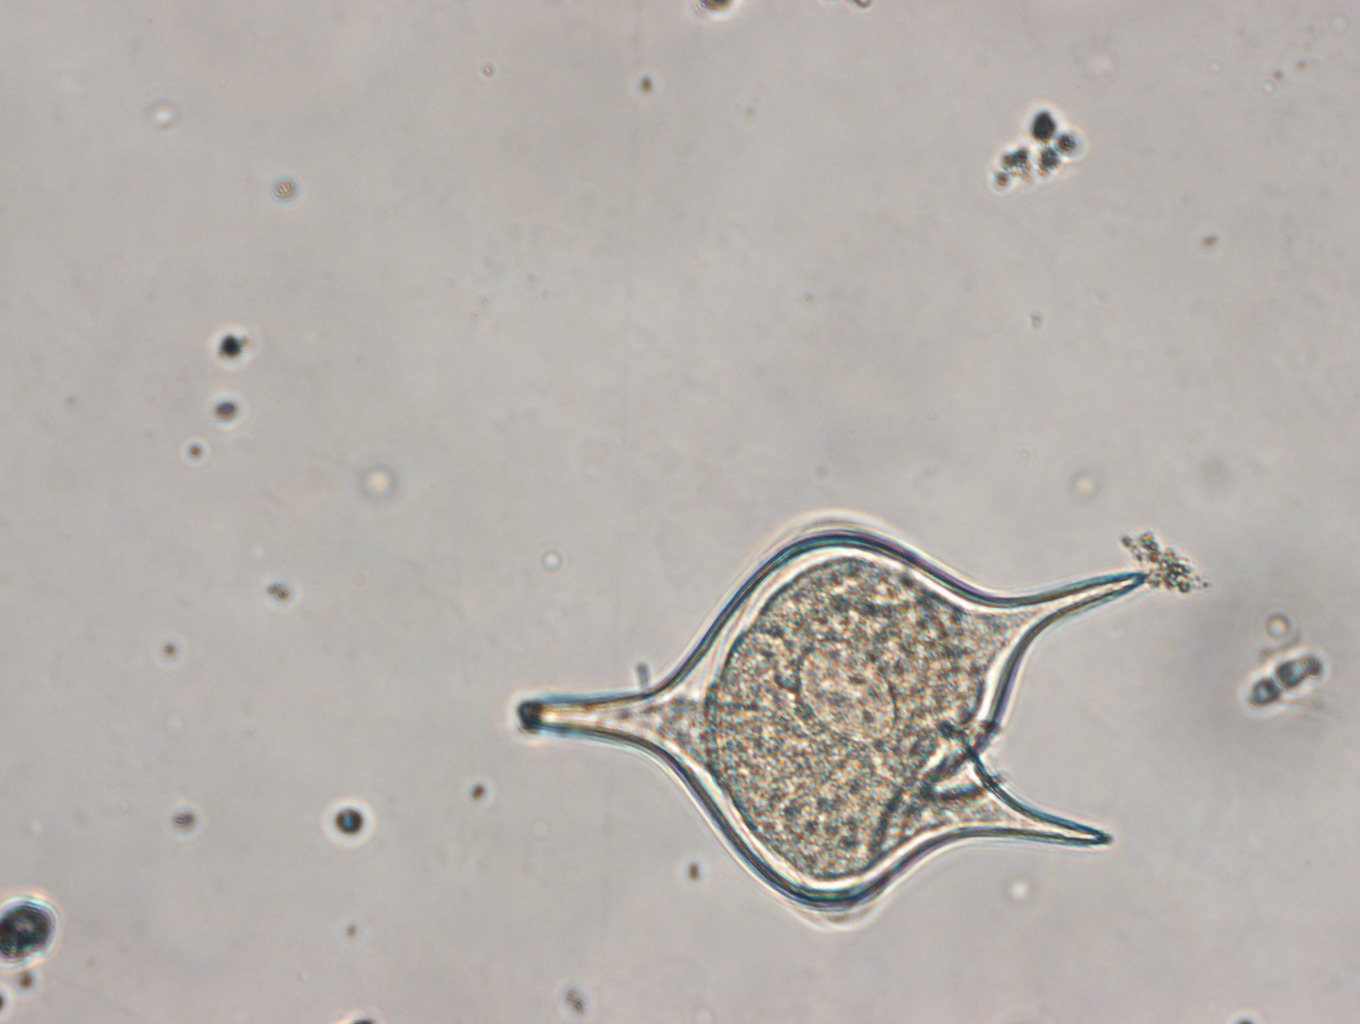protoperidinium: (510, 520, 1150, 918)
